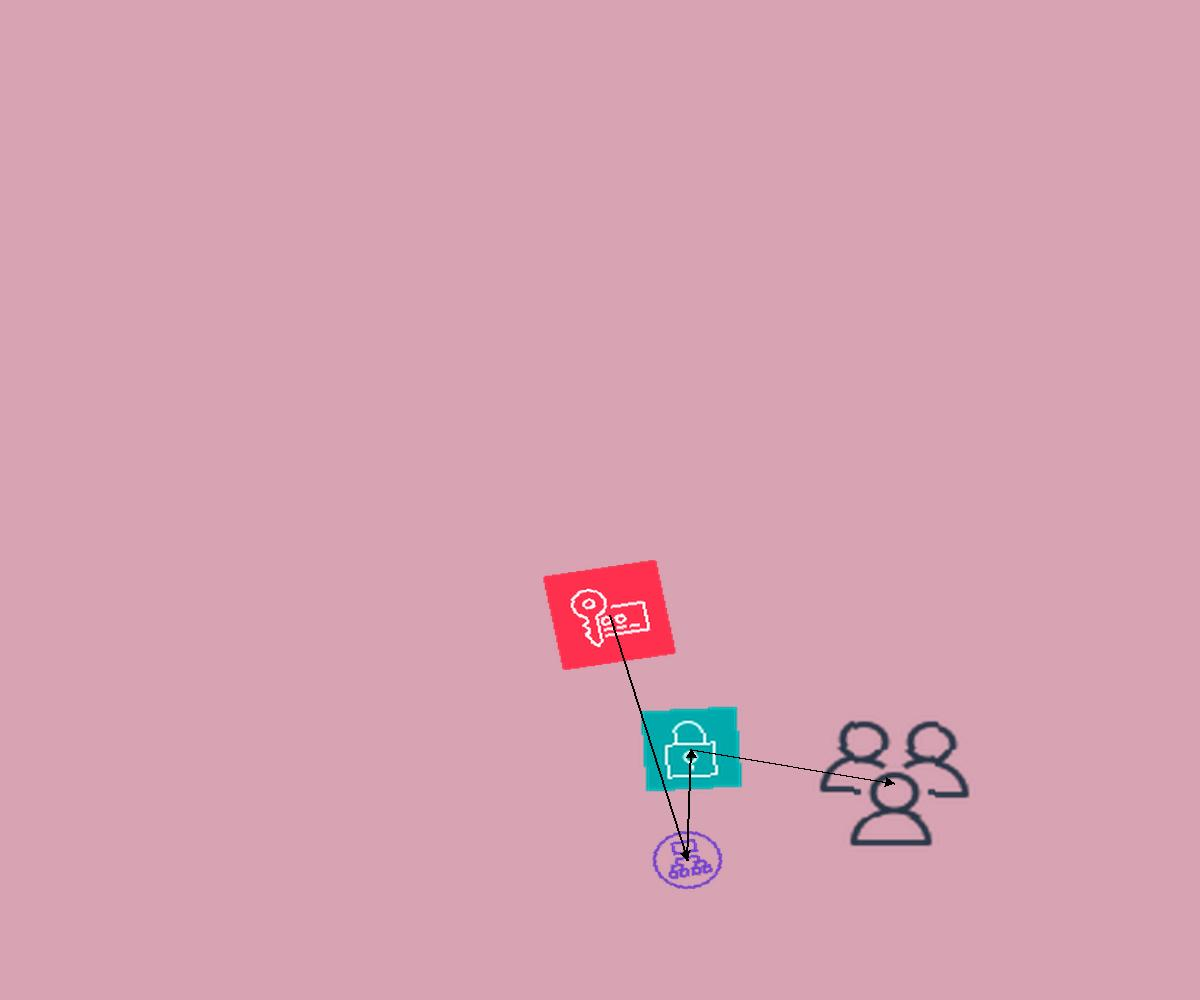AWS-Key-Management-Service: (542, 559, 677, 671)
AWS-Private-subnet: (639, 705, 744, 793)
AWS-Res_Elastic-Load-Balancing_Application-Load-Balancer: (642, 822, 733, 898)
AWS-Res_Users: (810, 713, 979, 854)
